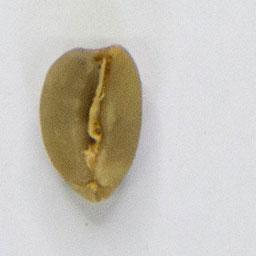longberry: (37, 41, 146, 204)
